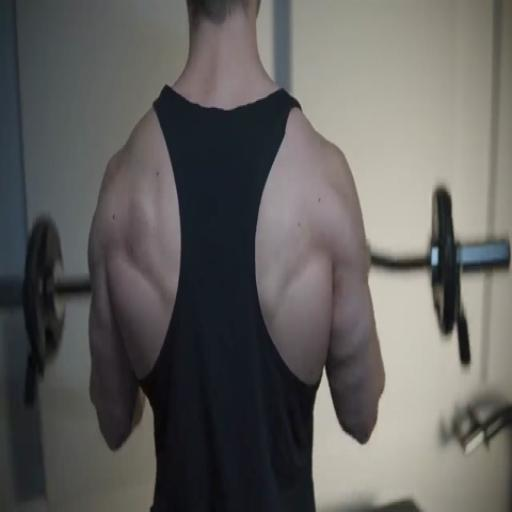exercise: (86, 0, 388, 511)
